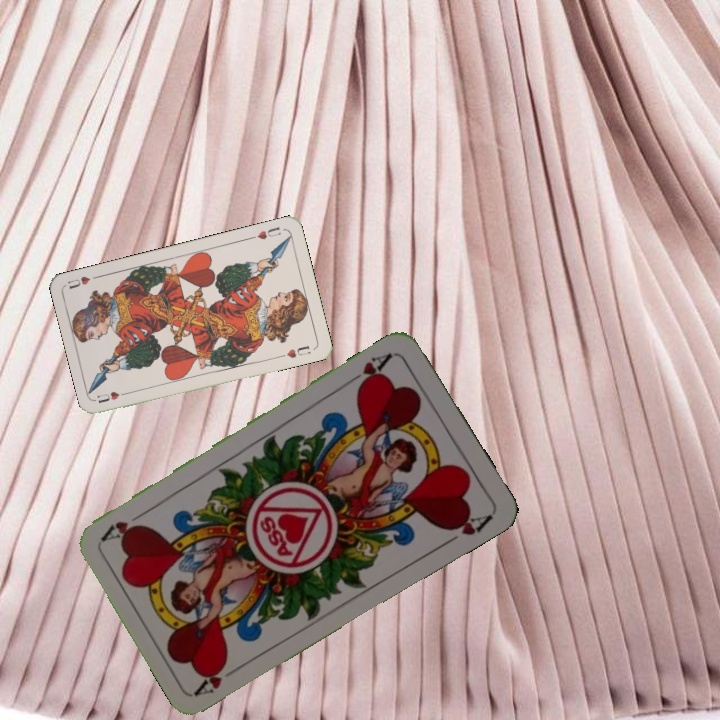HA: (344, 348, 395, 392), (192, 657, 246, 698)
HU: (93, 387, 133, 406), (246, 223, 284, 242)
